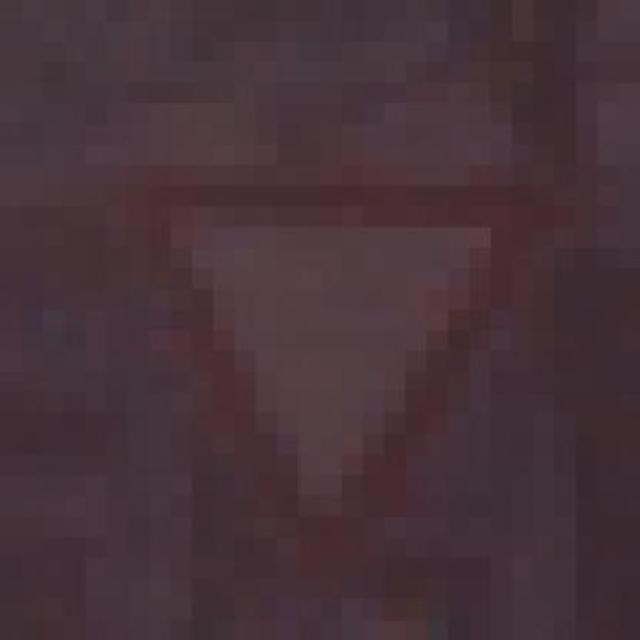Give Way: (85, 124, 598, 599)
